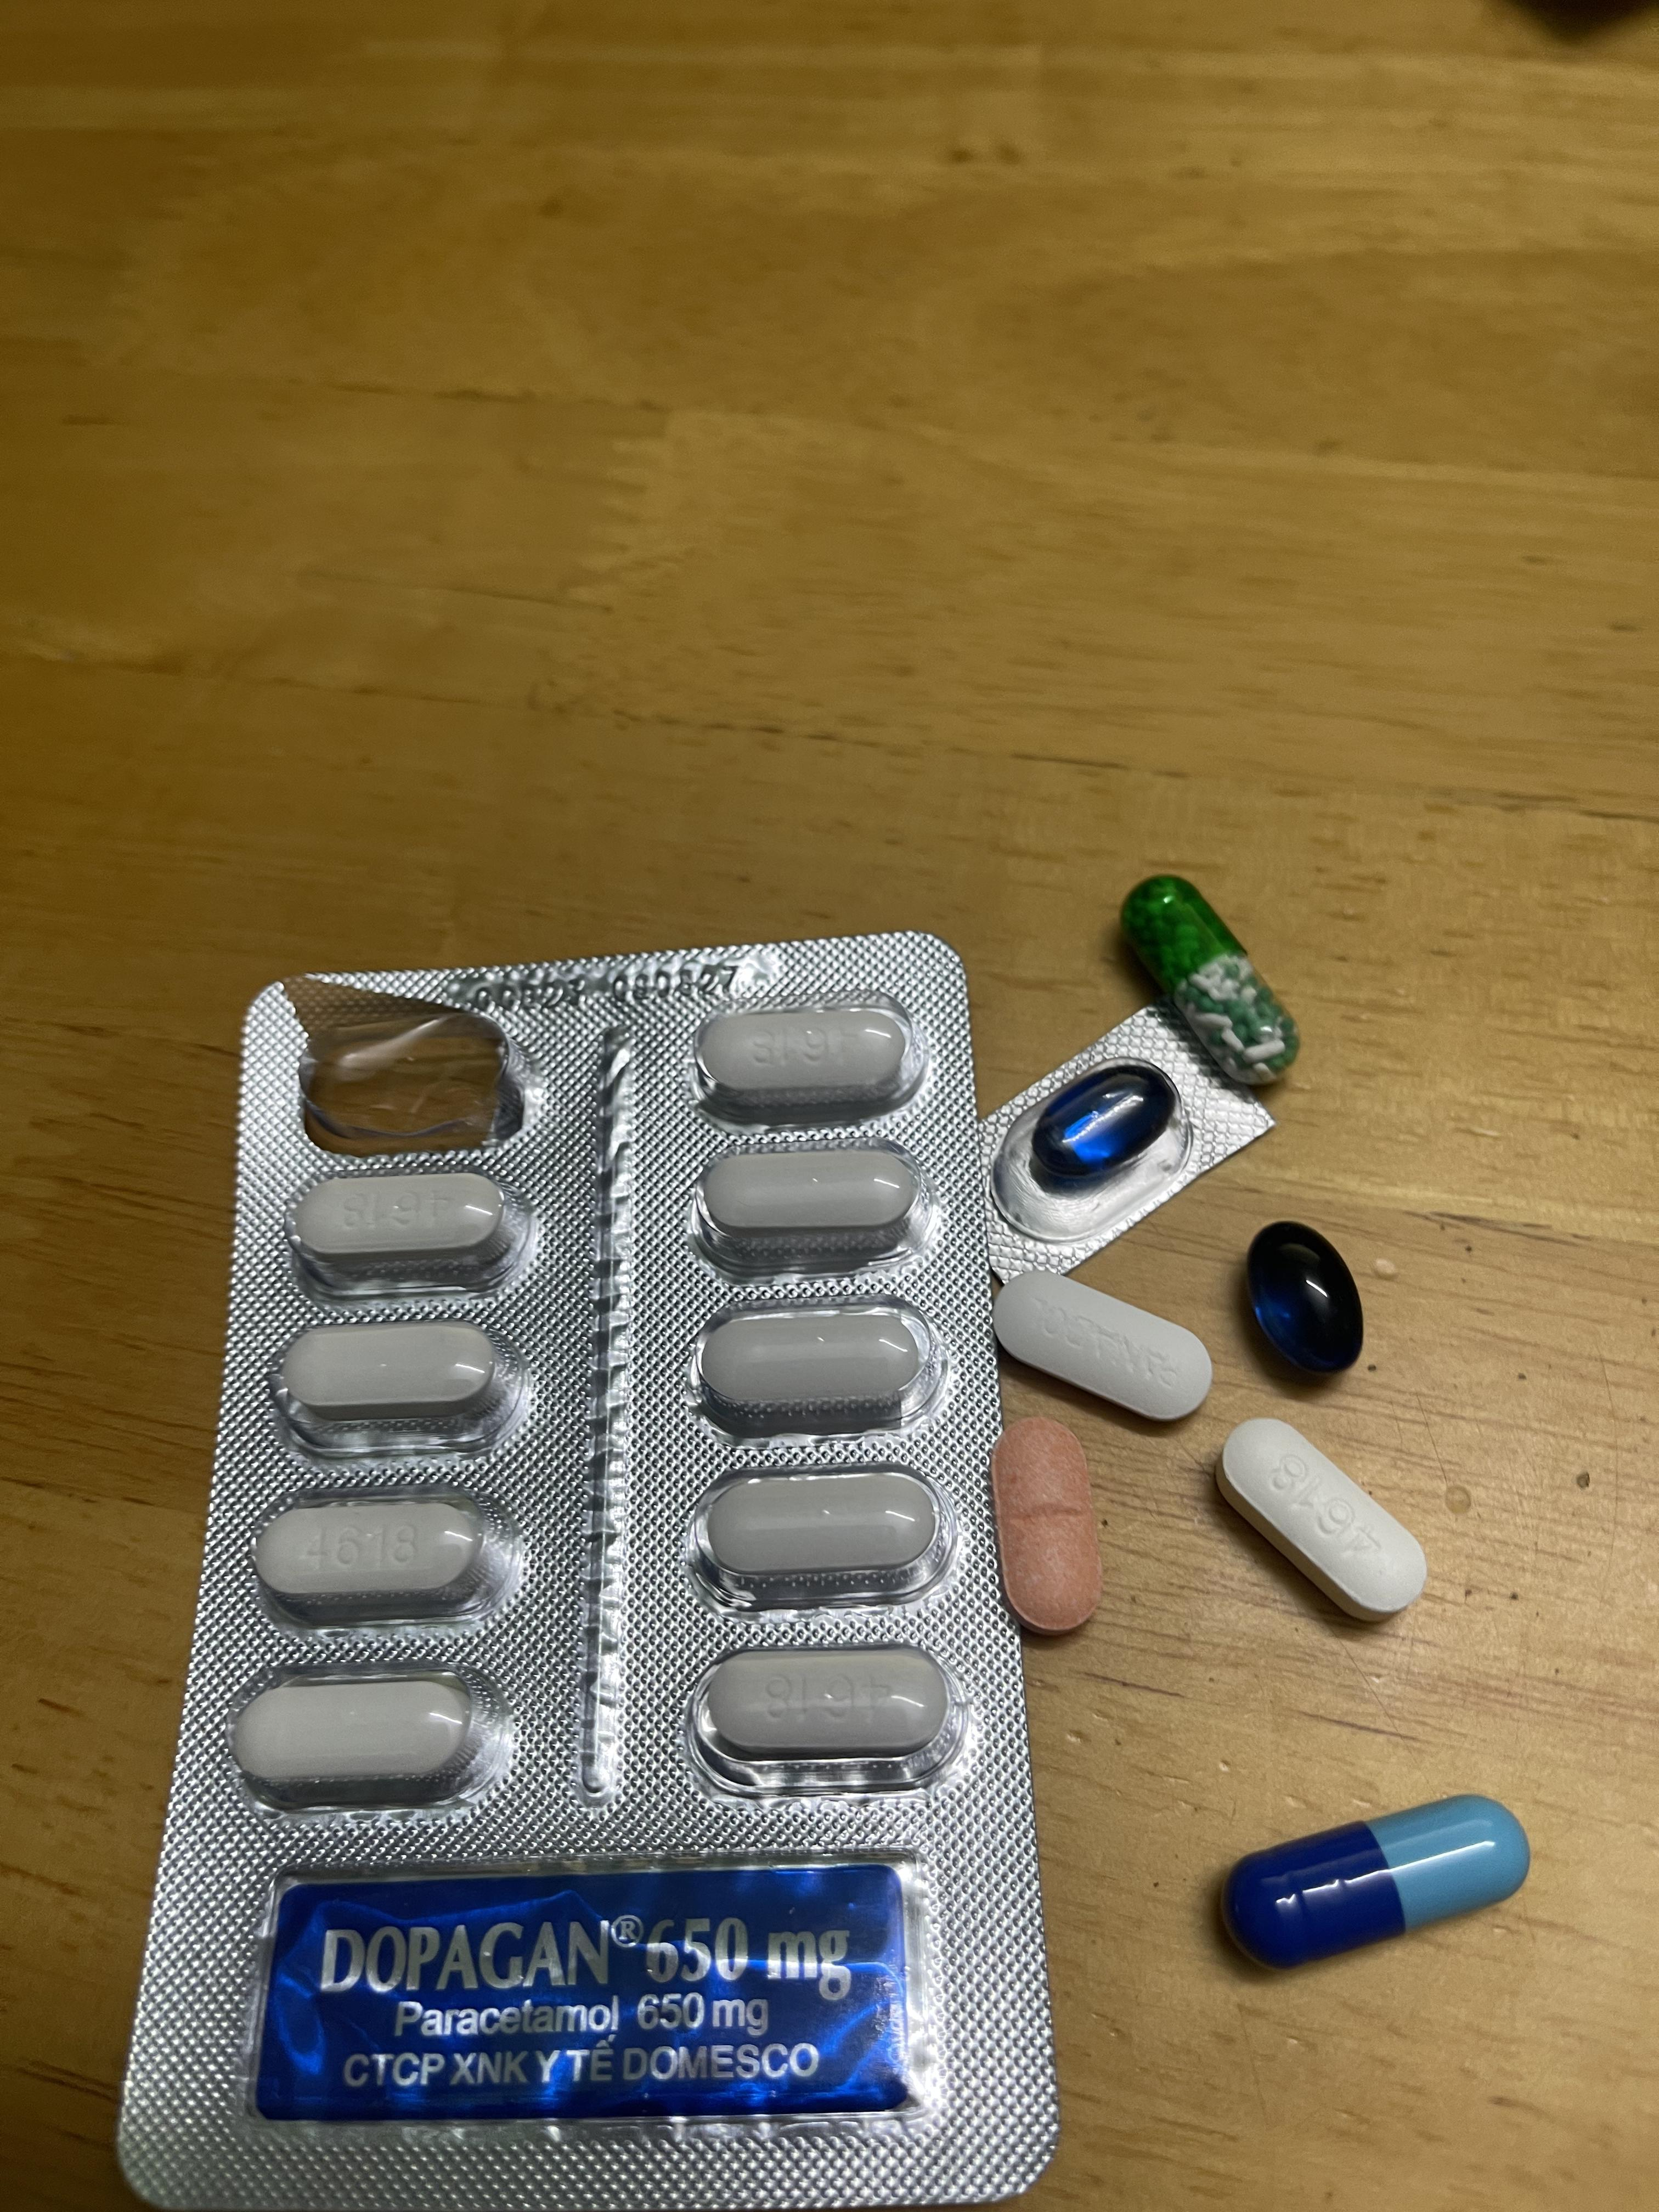Lincomyxin_500mg: (1246, 1221, 1368, 1378), (1030, 1068, 1173, 1184)
Loratadine_10mg: (986, 1416, 1105, 1632)
Paracetamol_350mg: (1000, 1278, 1209, 1421)
Paracetamol_500mg: (1220, 1423, 1425, 1615), (221, 1669, 509, 1804), (244, 1489, 518, 1625), (267, 1315, 528, 1449), (690, 1644, 950, 1775), (687, 1467, 941, 1594), (281, 1167, 535, 1289), (690, 1301, 932, 1426), (694, 998, 917, 1113), (692, 1143, 922, 1254)
Paracetamol_650mg: (1121, 874, 1298, 1089)
pill: (1230, 1806, 1523, 1965)
